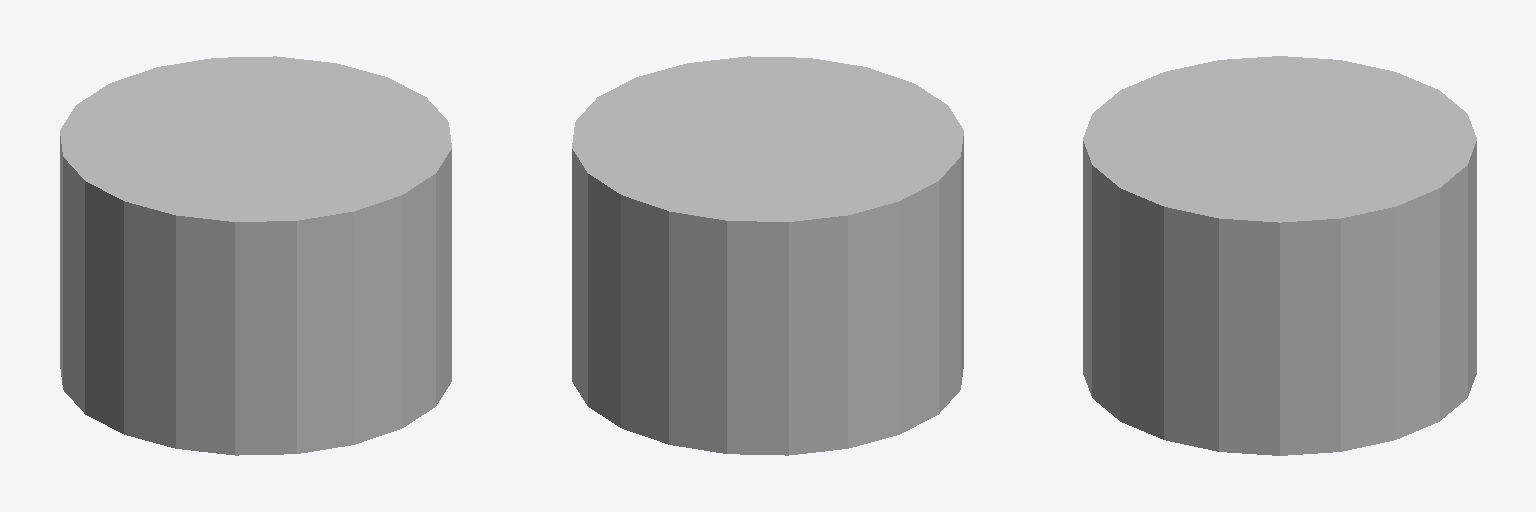
File: lemonade_ext.obj
The picture shows the model from 3 angles: view 1: azimuth 30°, elevation 25°; view 2: azimuth 150°, elevation 25°; view 3: azimuth 270°, elevation 25°; orthographic projection.
Parts seen in each view (by area): view 1: pCylinder1; view 2: pCylinder1; view 3: pCylinder1.
Part boxes in pixels (x1,y1,x2,y2): pCylinder1: (60, 56, 451, 455); pCylinder1: (572, 56, 963, 455); pCylinder1: (1083, 56, 1476, 455).
Bounding box in the file's own units: 2 × 1.31 × 2.